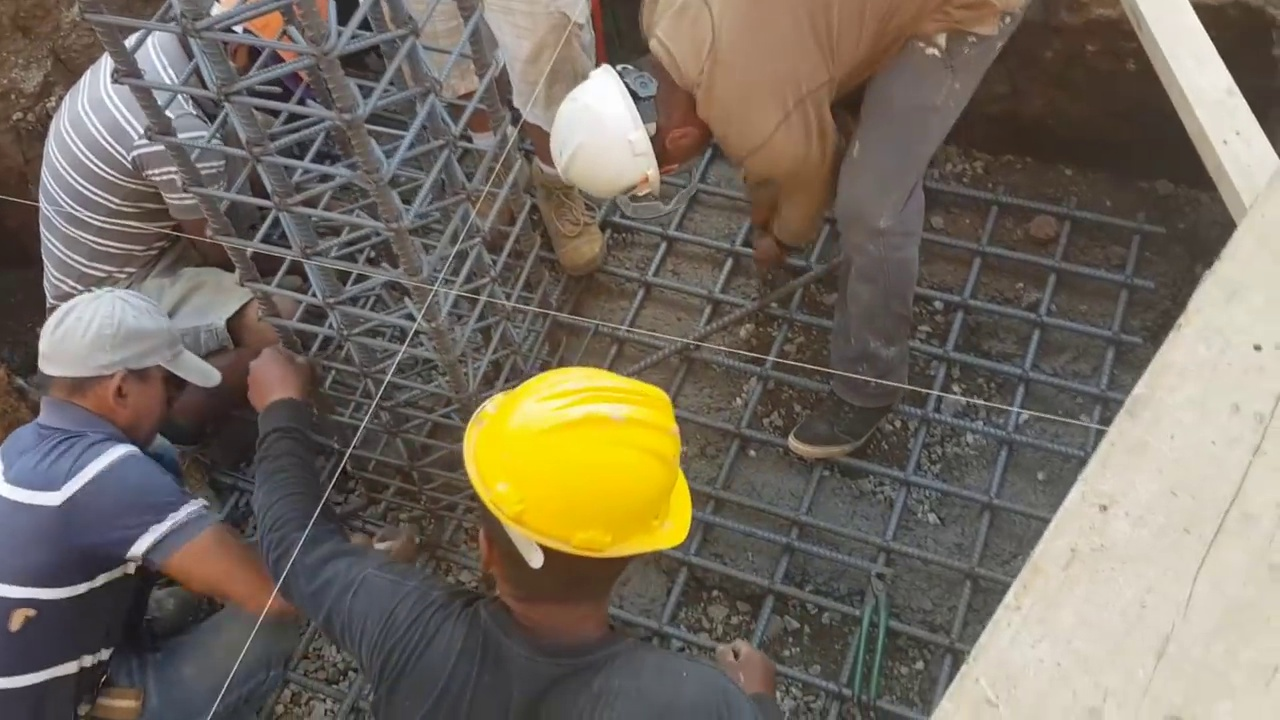helmet: (456, 366, 692, 573), (549, 54, 654, 201), (209, 3, 290, 55)
helmet-off: (41, 295, 219, 455)
helmet-on: (459, 366, 694, 656), (549, 34, 724, 209), (181, 0, 316, 93)
person: (549, 0, 1016, 466), (244, 344, 781, 719), (0, 301, 429, 720), (37, 0, 371, 353), (406, 0, 615, 280)
